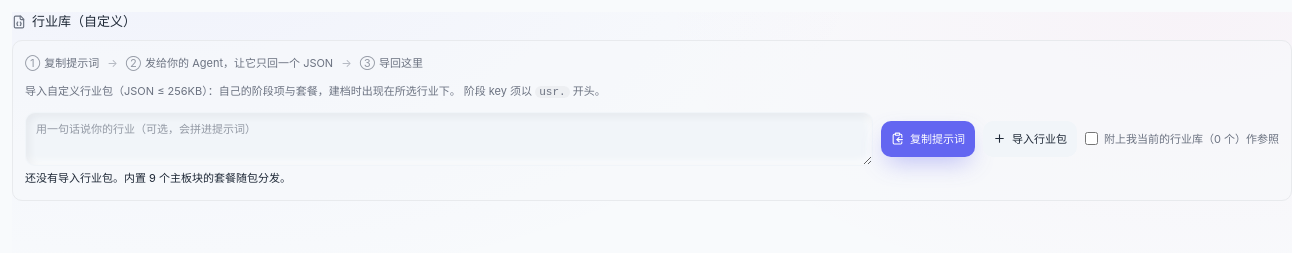
Test: CustomLibrarySection · 她反馈 #6.2 新流程 › ⑦ 回调里取词必须跟随语言（守住 useCallback 的 t-deps 陷阱）
Click the button "复制提示词" at (928, 138), box top-left (881, 120), bottom-right (975, 156)
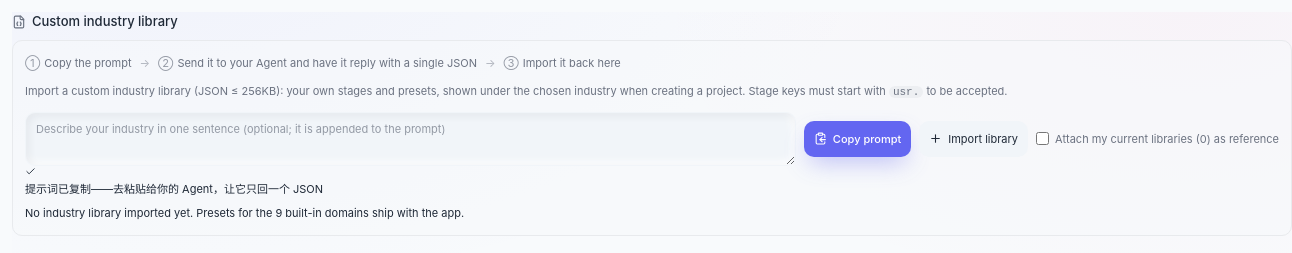
expect the text "提示词已复制——去粘贴给你的 Agent，让它只回一个 JSON" is shown: met, box top-left (25, 166), bottom-right (323, 196)
expect the text "Custom industry library" is shown: met, box top-left (12, 12), bottom-right (178, 32)
expect the text "行业库（自定义）" is gone: met
Click the button "Copy prompt" at (858, 138), box top-left (804, 120), bottom-right (911, 156)
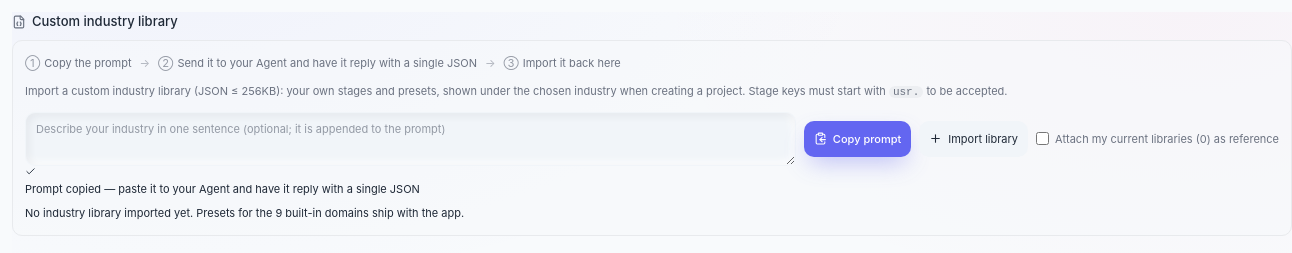
expect the text "Prompt copied — paste it to your Agent and have it reply with a single JSON" is shown: met, box top-left (25, 166), bottom-right (420, 196)
expect the text "提示词已复制——去粘贴给你的 Agent，让它只回一个 JSON" is gone: met
